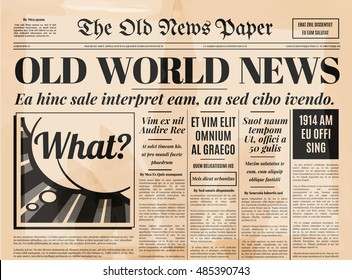news_paper: (1, 1, 352, 260)
